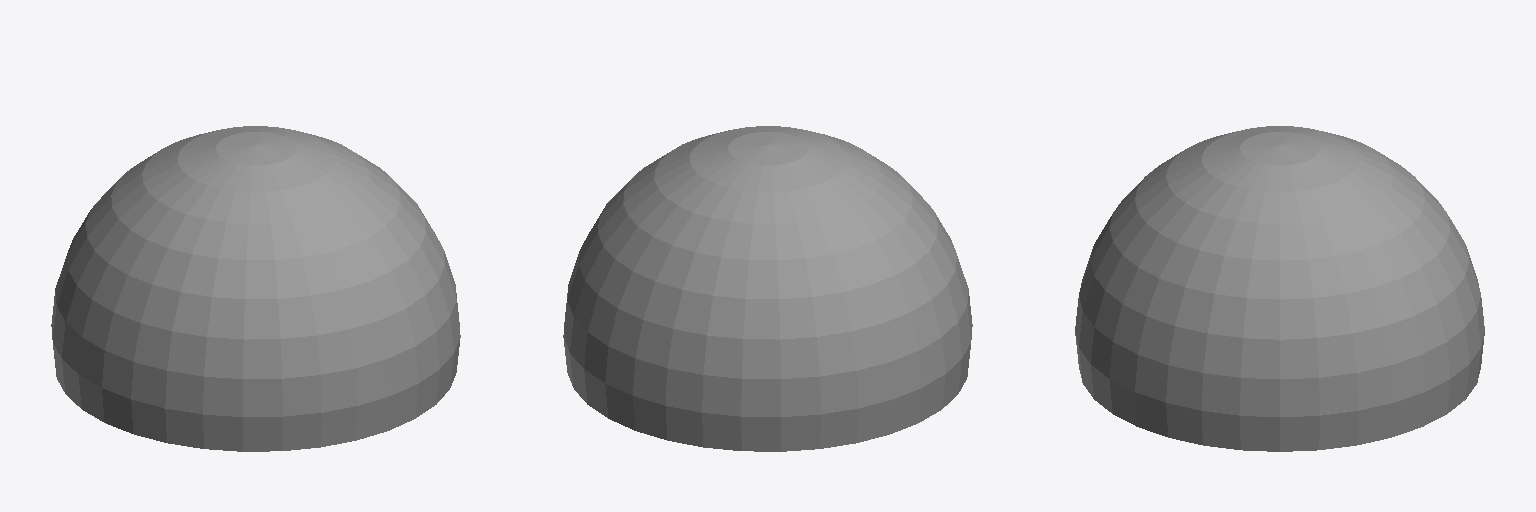
File: street.obj
3 views of the same model, side by side, from view 1: azimuth 30°, elevation 25°; view 2: azimuth 150°, elevation 25°; view 3: azimuth 270°, elevation 25° (orthographic).
Visible parts, largest first — view 1: Sky_Sphere; view 2: Sky_Sphere; view 3: Sky_Sphere.
Boxes of the visible parts, x1=… form: Sky_Sphere: x1=51, y1=126, x2=460, y2=451; Sky_Sphere: x1=563, y1=126, x2=972, y2=451; Sky_Sphere: x1=1075, y1=126, x2=1484, y2=451.
Size of the model in its own units: 261 by 156 by 261.